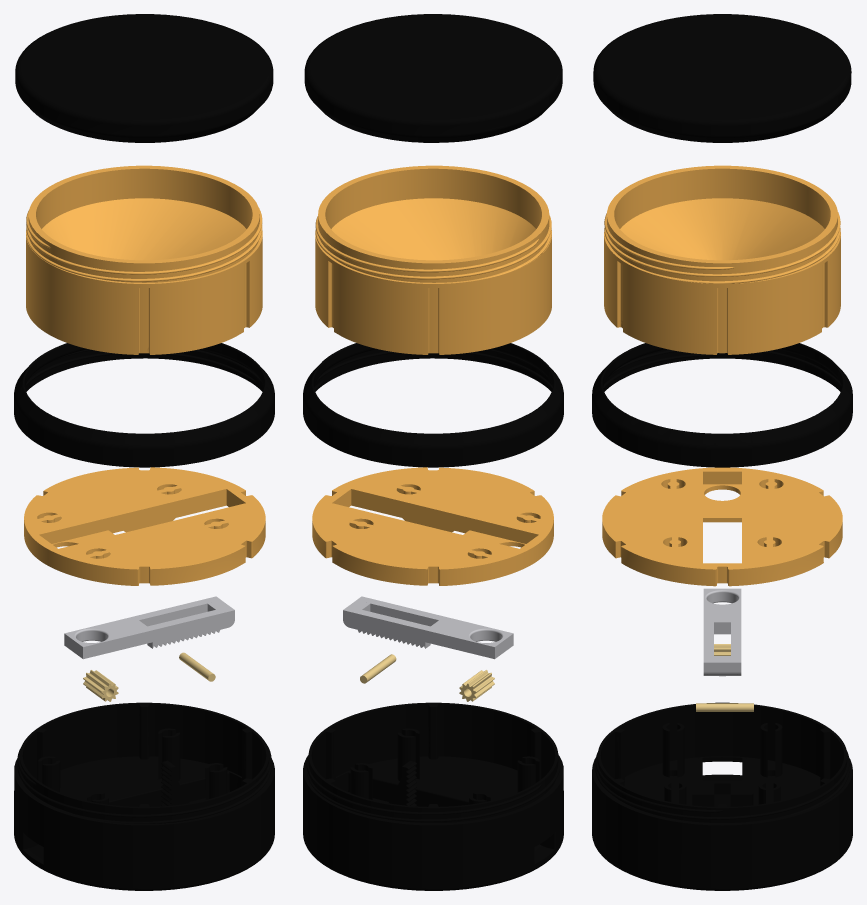
The model's file is exploded-v.glb.
3 views of the same model, side by side, from view 1: azimuth 30°, elevation 25°; view 2: azimuth 150°, elevation 25°; view 3: azimuth 270°, elevation 25° (orthographic).
Size of the model in its own units: 0.1003 by 0.3266 by 0.1003.
